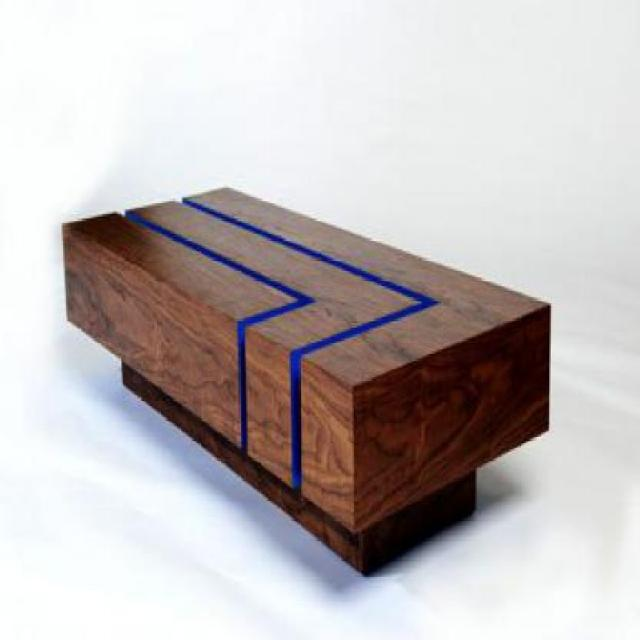table: (58, 183, 553, 574)
